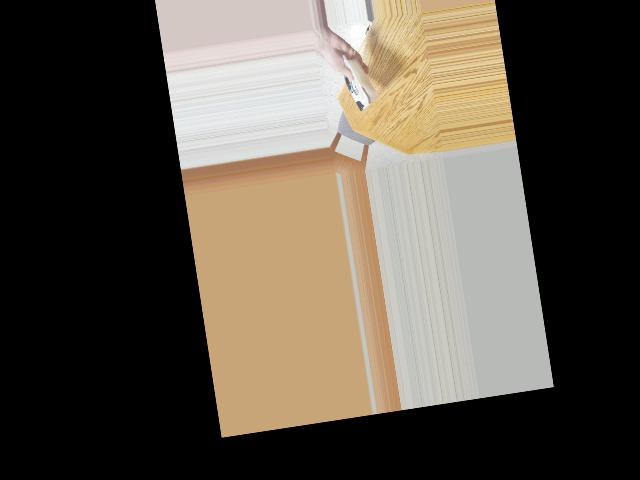cheese: (331, 55, 381, 111)
